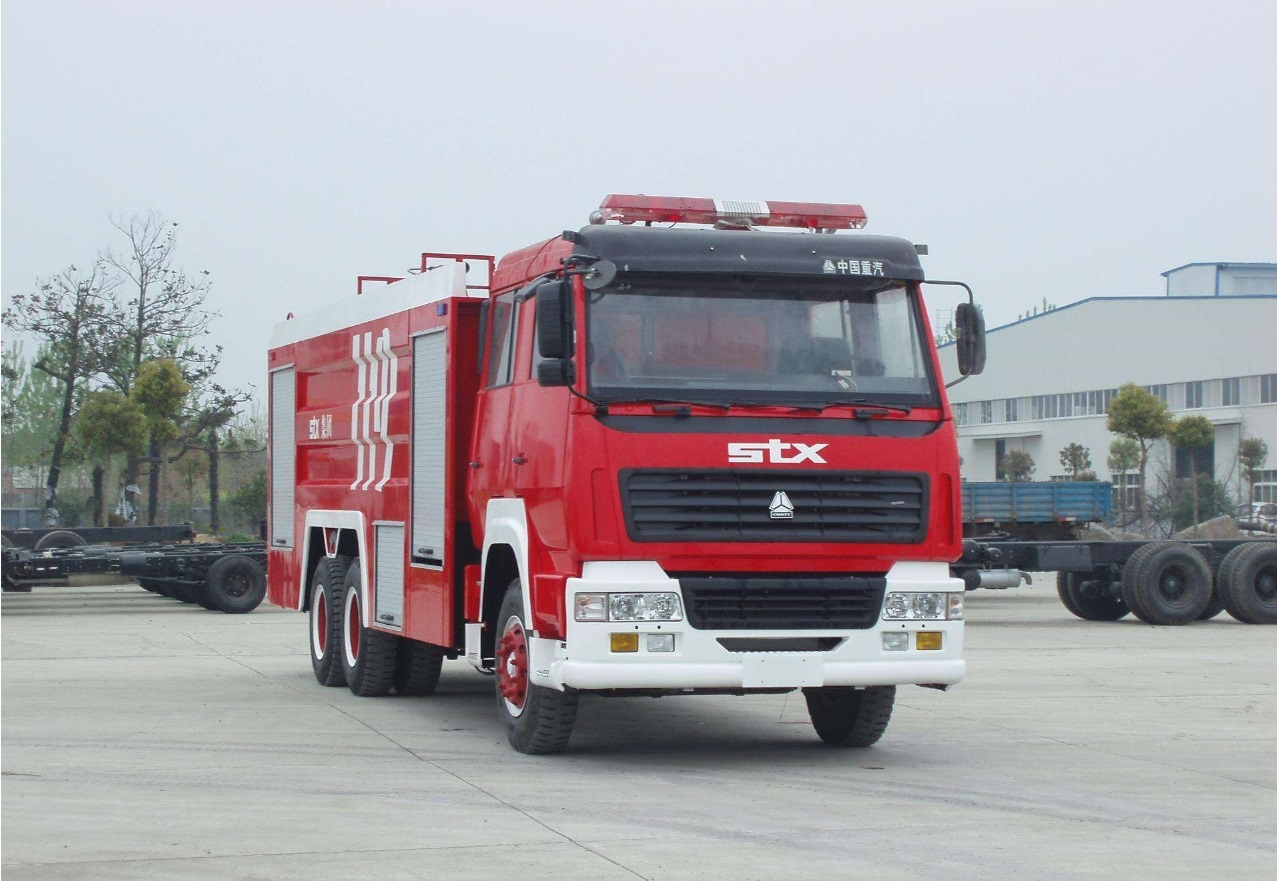fire engine: (259, 191, 992, 799)
